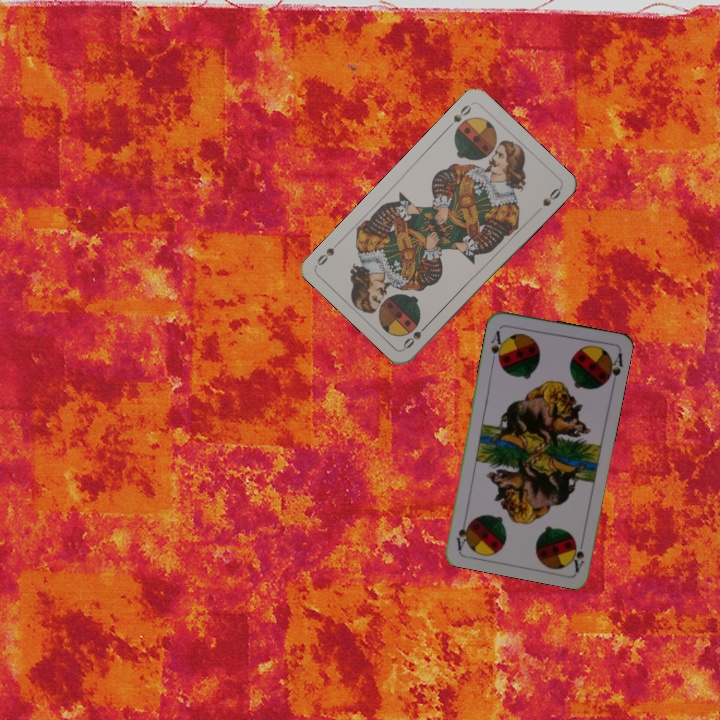SA: (567, 533, 587, 573), (487, 326, 506, 366)
SO: (399, 319, 432, 352), (443, 101, 474, 132)
